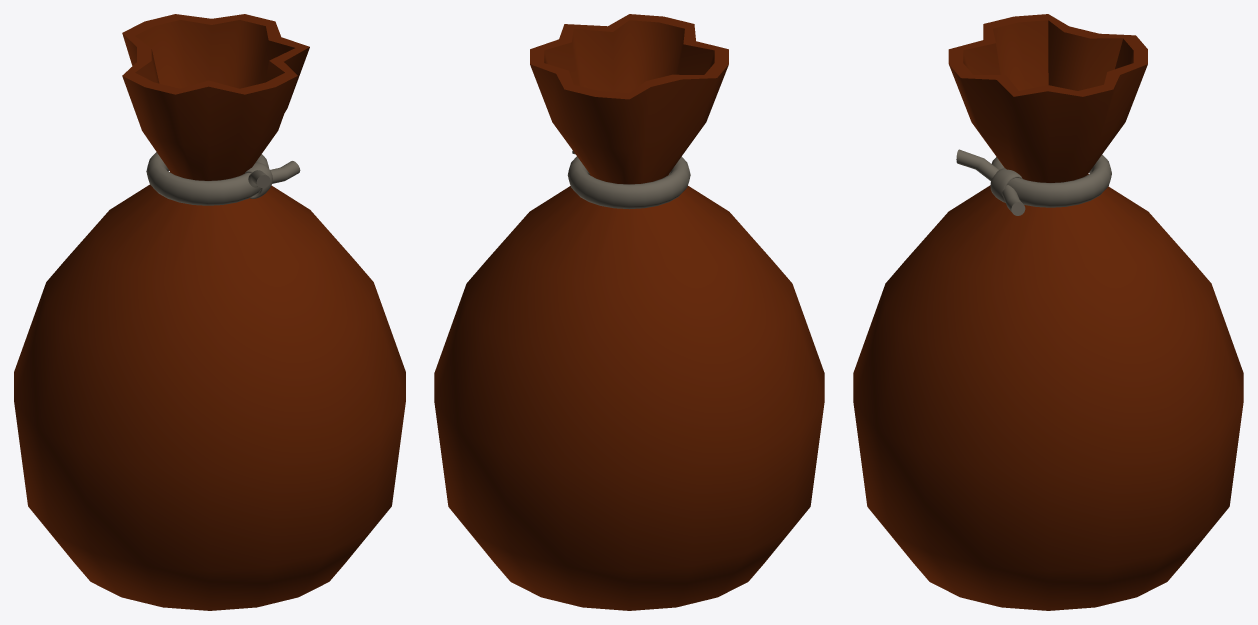
File: Bag.FBX
3 renders of one model, left to right at view 1: azimuth 30°, elevation 25°; view 2: azimuth 150°, elevation 25°; view 3: azimuth 270°, elevation 25°, orthographic.
Parts seen in each view (by area): view 1: Cylinder001; view 2: Cylinder001; view 3: Cylinder001.
Part boxes in pixels (x1=…): Cylinder001: x1=14, y1=14, x2=405, y2=610; Cylinder001: x1=434, y1=14, x2=824, y2=610; Cylinder001: x1=853, y1=14, x2=1243, y2=610.
Bounding box in the file's own units: 49.89 × 70.84 × 49.13.
